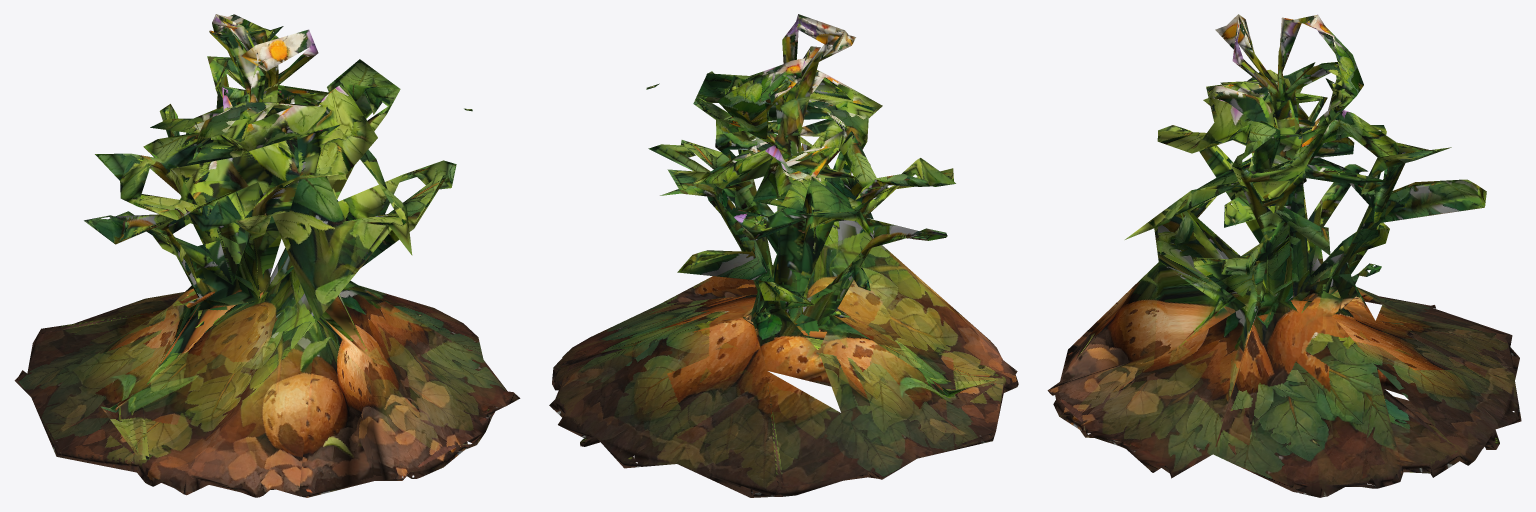
File: Crop_Potato_Ready.fbx
3 renders of one model, left to right at view 1: azimuth 30°, elevation 25°; view 2: azimuth 150°, elevation 25°; view 3: azimuth 270°, elevation 25°, orthographic. The views are drawn at different scales.
Visible parts, largest first — view 1: texture_mapping; view 2: texture_mapping; view 3: texture_mapping.
Boxes of the visible parts, x1=… form: texture_mapping: x1=14, y1=14, x2=520, y2=497; texture_mapping: x1=549, y1=14, x2=1018, y2=497; texture_mapping: x1=1047, y1=14, x2=1521, y2=497.
Bounding box in the file's own units: 0.9601 × 0.9452 × 0.8144.
1 material, 1 textured.
